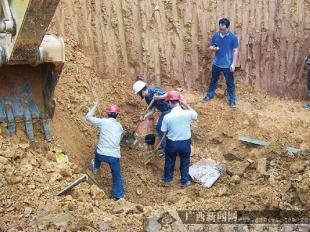head: (215, 15, 235, 34)
helmet: (130, 78, 150, 98), (164, 90, 183, 109), (106, 100, 121, 120)
